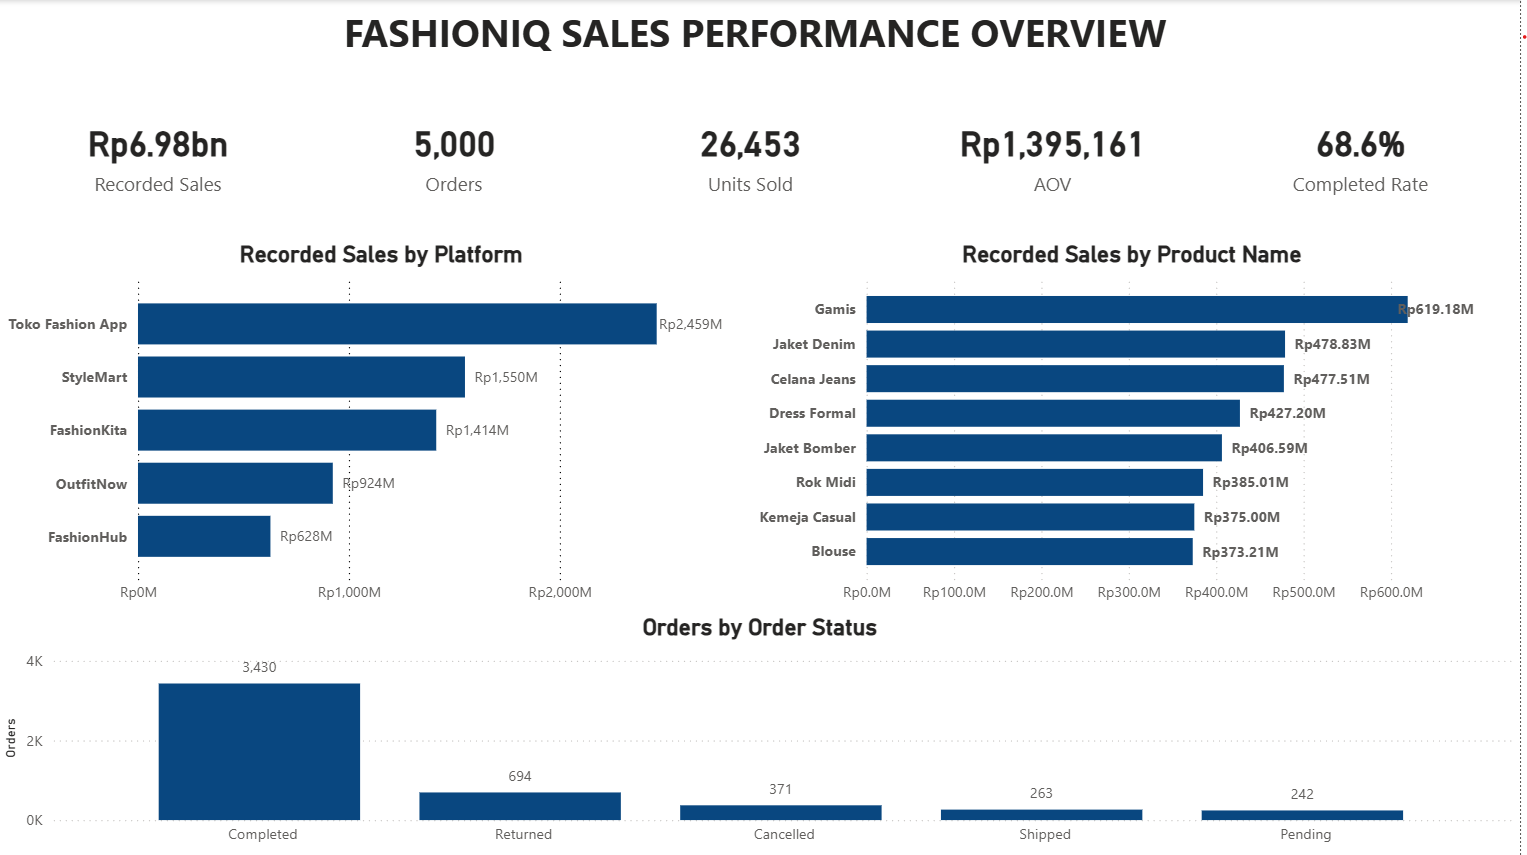

What the dashboard file says about the page in this screenshot:
{"tool":"powerbi","page":{"name":"01_Executive Overview","canvas":[1280,720],"ordinal":1},"visuals":[{"type":"textbox","box":[1.2,0,1278.8,57.5],"z":0},{"type":"card","fields":{"Values":["_Measures.Recorded Sales"]},"box":[2.5,57.5,263.8,145],"z":1000},{"type":"card","fields":{"Values":["_Measures.Orders"]},"box":[266.2,57.5,233.8,145],"z":2000},{"type":"card","fields":{"Values":["_Measures.Units Sold"]},"box":[500,57.5,263.8,145],"z":3000},{"type":"card","fields":{"Values":["_Measures.AOV"]},"box":[763.8,57.5,246.2,145],"z":4000},{"type":"card","fields":{"Values":["_Measures.Completed Rate"]},"box":[1010,57.5,270,145],"z":5000},{"type":"clusteredBarChart","fields":{"Category":["fashion_sales_clean.Platform"],"Y":["_Measures.Recorded Sales"]},"box":[2.5,202.5,638.8,313.8],"z":6000},{"type":"clusteredBarChart","fields":{"Category":["fashion_sales_clean.Product Name"],"Y":["_Measures.Recorded Sales"]},"box":[632.5,202.5,640,313.8],"z":7000},{"type":"clusteredColumnChart","fields":{"Category":["fashion_sales_clean.Order Status"],"Y":["_Measures.Orders"]},"box":[0,516.2,1280,203.8],"z":8000}]}

Visuals, with their boxes in screenshot pixels (x1, y1, x2, y2), scaled from the page's 1280x720 canvas onto the 1527x855 screenshot:
textbox: Rect(1, 0, 1526, 68)
card - _Measures.Recorded Sales: Rect(3, 68, 318, 240)
card - _Measures.Orders: Rect(318, 68, 596, 240)
card - _Measures.Units Sold: Rect(596, 68, 911, 240)
card - _Measures.AOV: Rect(911, 68, 1205, 240)
card - _Measures.Completed Rate: Rect(1205, 68, 1526, 240)
clusteredBarChart - fashion_sales_clean.Platform x _Measures.Recorded Sales: Rect(3, 240, 765, 613)
clusteredBarChart - fashion_sales_clean.Product Name x _Measures.Recorded Sales: Rect(755, 240, 1518, 613)
clusteredColumnChart - fashion_sales_clean.Order Status x _Measures.Orders: Rect(0, 613, 1526, 854)
